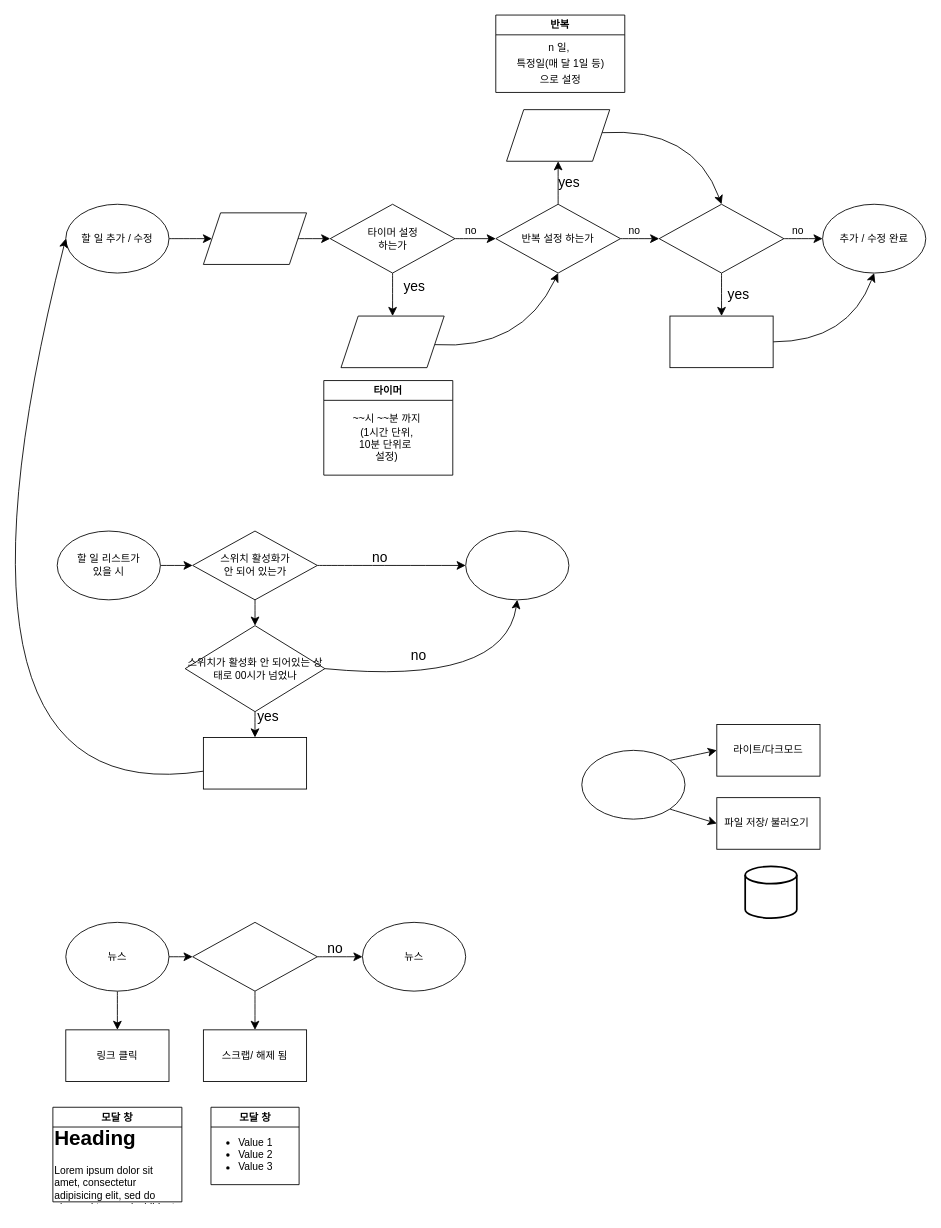
Image size: 941x1228. Some labels were removed from this diagram. The box of each missing label's shape, as (x1, y1, x2, y2) in pixels:
뉴스를 스크랩/해제 하는가: (192, 921, 317, 991)
메뉴창: (581, 749, 685, 819)
반복 설정: (506, 109, 610, 161)
복제 (한번만 복제됨): (669, 315, 773, 368)
완료: (465, 530, 569, 600)
일정 재등록 창: (203, 737, 307, 789)
중요도 및 할 일 입력: (203, 212, 307, 264)
타이머 설정: (340, 315, 444, 368)
할 일을 복제하는가: (658, 203, 784, 273)
